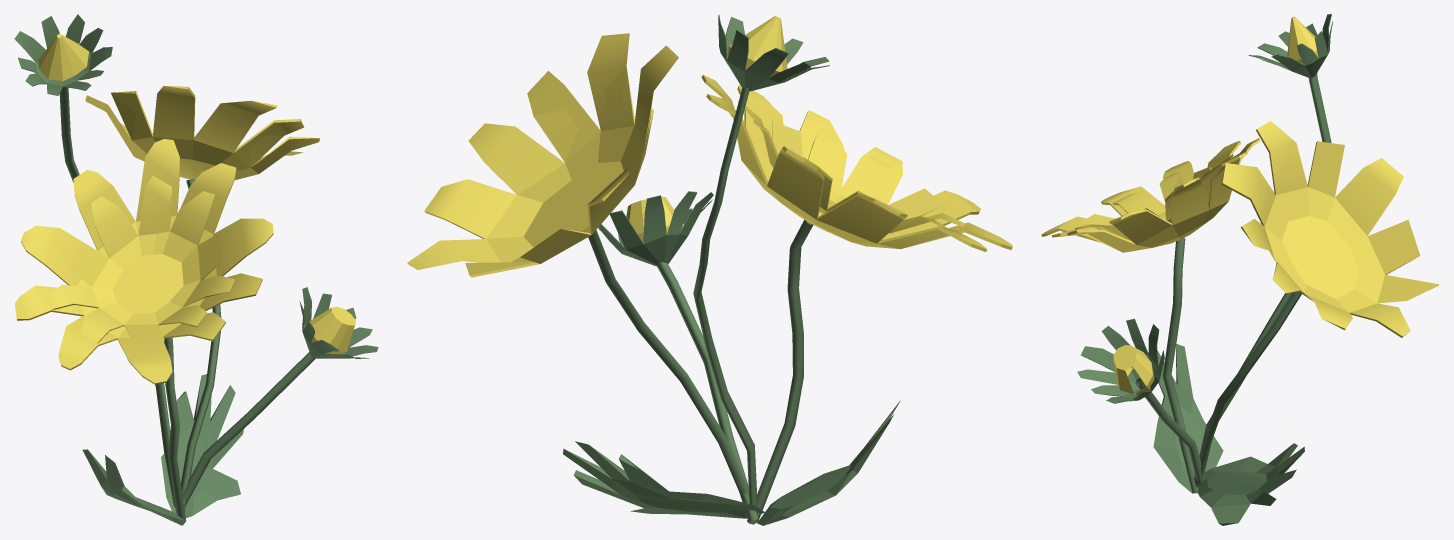
File: Chrys.fbx
The picture shows the model from 3 angles, left to right: view 1: azimuth 30°, elevation 25°; view 2: azimuth 150°, elevation 25°; view 3: azimuth 270°, elevation 25°; orthographic projection. The views are drawn at different scales.
Visible parts, largest first — view 1: Chrys1Base, Chrys1Stem; view 2: Chrys1Base, Chrys1Stem; view 3: Chrys1Base, Chrys1Stem.
Boxes of the visible parts, <box> form: Chrys1Base: <box>15,34,355,384</box>; Chrys1Stem: <box>14,14,378,525</box>; Chrys1Base: <box>407,16,1012,277</box>; Chrys1Stem: <box>563,14,900,525</box>; Chrys1Base: <box>1041,16,1439,394</box>; Chrys1Stem: <box>1077,14,1332,525</box>.
Size of the model in its own units: 11.54 by 14.14 by 11.43.
